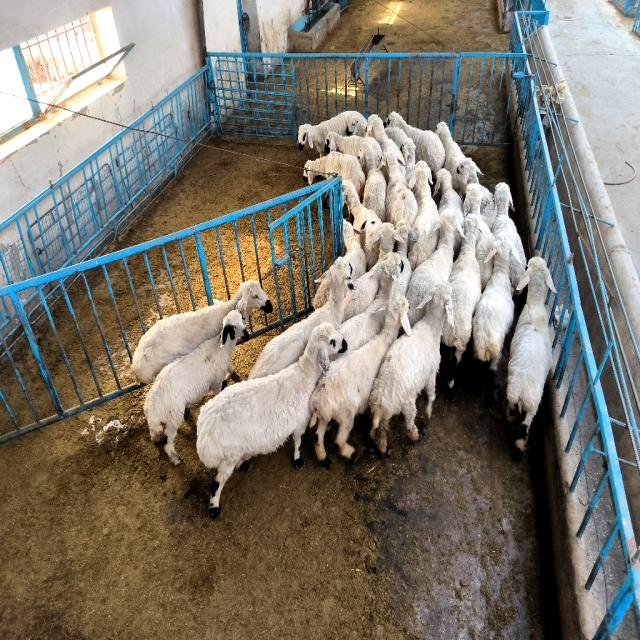sheep: (196, 323, 342, 512), (310, 297, 410, 466), (144, 310, 249, 465), (131, 280, 272, 384), (369, 282, 454, 453), (249, 257, 354, 379), (506, 257, 555, 460), (472, 233, 518, 402), (441, 213, 481, 389), (406, 208, 462, 326), (338, 253, 401, 351), (491, 183, 526, 294), (386, 112, 445, 176), (343, 180, 381, 269), (409, 160, 439, 269), (465, 183, 495, 289), (298, 110, 368, 153), (381, 148, 418, 226), (304, 152, 365, 194), (358, 138, 386, 222), (436, 122, 466, 196), (344, 265, 380, 319), (366, 115, 404, 164), (394, 220, 418, 296), (325, 132, 382, 162), (435, 168, 464, 224), (369, 223, 401, 262), (479, 185, 495, 228), (456, 158, 481, 185), (402, 138, 415, 181), (454, 232, 462, 258)
